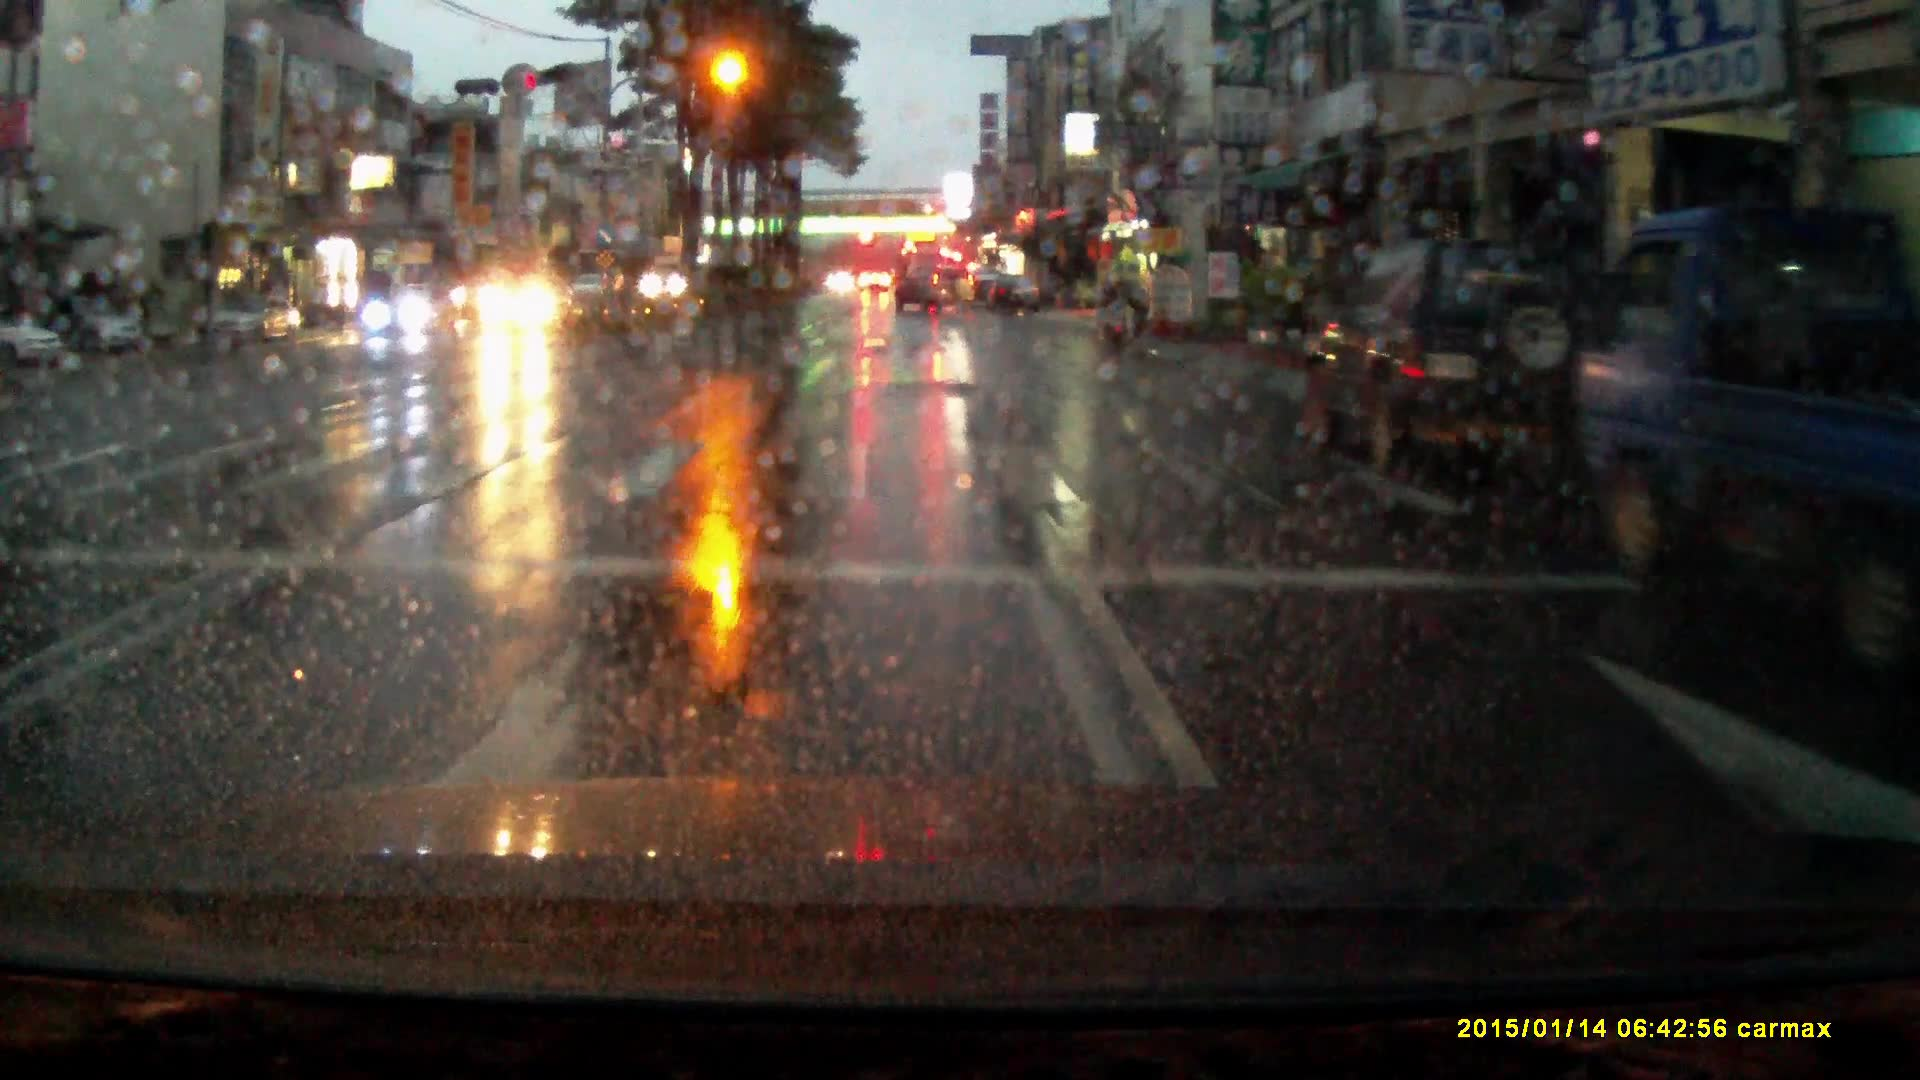vehicle: (1565, 215, 1917, 629), (1302, 248, 1614, 473), (476, 276, 578, 336), (206, 297, 305, 353), (367, 284, 454, 342), (893, 268, 976, 322), (79, 305, 146, 357), (1, 318, 65, 367), (899, 247, 947, 306), (986, 278, 1038, 320), (568, 276, 611, 307), (975, 272, 1005, 313), (858, 272, 895, 298)
